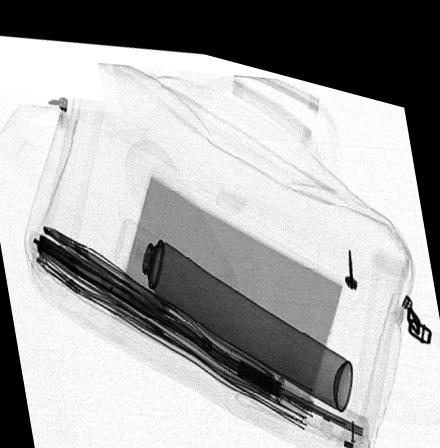Sprayer: (115, 212, 353, 394)
